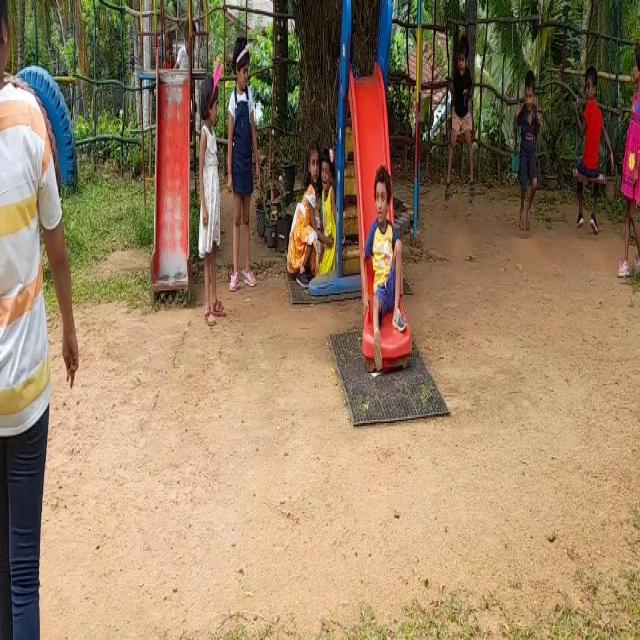adult: (0, 0, 83, 640)
child: (227, 32, 266, 293), (359, 158, 405, 378), (193, 53, 229, 334), (509, 45, 543, 236), (576, 53, 605, 245), (449, 16, 477, 207), (621, 42, 640, 286)
